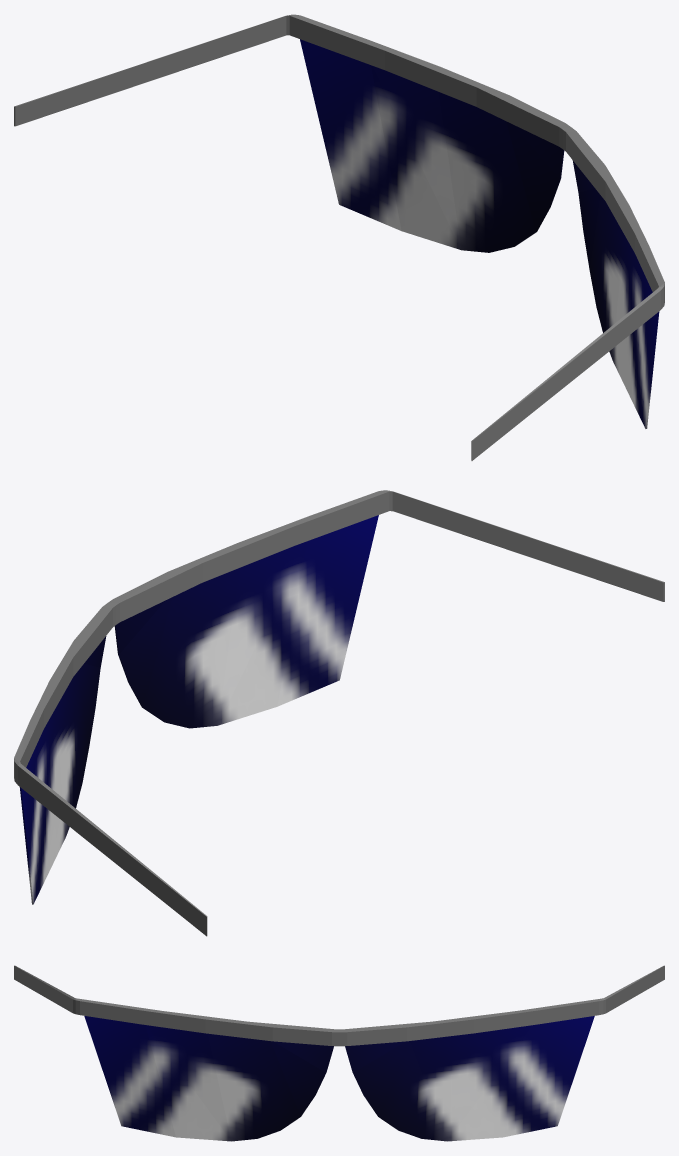
Rendered from human2g1.obj.
The picture shows the model from 3 angles, top to bottom: view 1: azimuth 30°, elevation 25°; view 2: azimuth 150°, elevation 25°; view 3: azimuth 270°, elevation 25°; orthographic projection. The views are drawn at different scales.
Visible parts, largest first — view 1: ColobotMesh_1.001_ColobotMesh_.001, ColobotMesh_1_ColobotMesh_; view 2: ColobotMesh_1.001_ColobotMesh_.001, ColobotMesh_1_ColobotMesh_; view 3: ColobotMesh_1.001_ColobotMesh_.001, ColobotMesh_1_ColobotMesh_.
Part boxes in pixels (left/top/right/bottom): ColobotMesh_1.001_ColobotMesh_.001: left=300, top=39, right=659, bottom=428; ColobotMesh_1_ColobotMesh_: left=14, top=14, right=664, bottom=460; ColobotMesh_1.001_ColobotMesh_.001: left=19, top=515, right=378, bottom=904; ColobotMesh_1_ColobotMesh_: left=14, top=490, right=664, bottom=936; ColobotMesh_1.001_ColobotMesh_.001: left=84, top=1016, right=594, bottom=1141; ColobotMesh_1_ColobotMesh_: left=14, top=965, right=664, bottom=1046.
Bounding box in the file's own units: 0.4174 × 0.2118 × 1.01.
